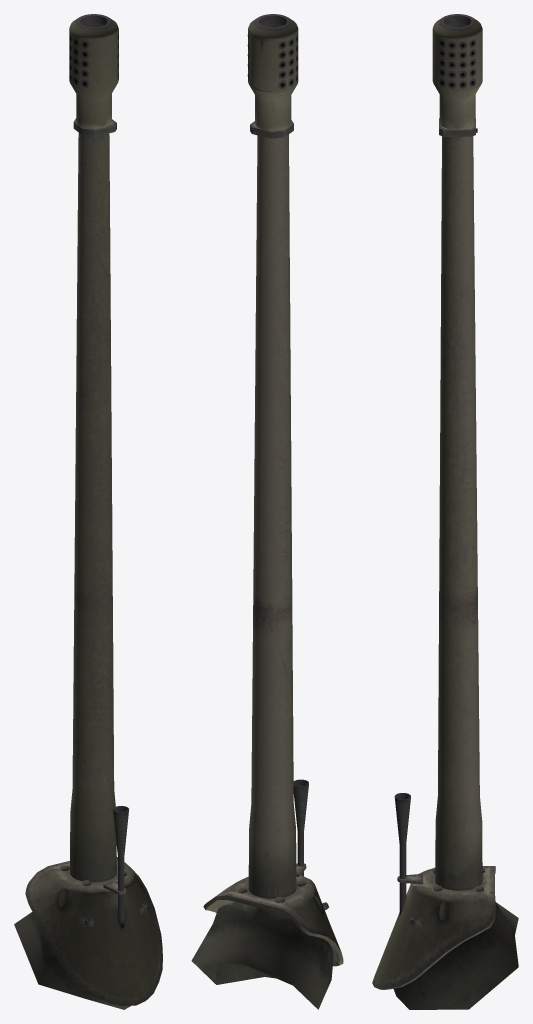
Rendered from Gun_01.glb.
The picture shows the model from 3 angles, left to right: view 1: azimuth 30°, elevation 25°; view 2: azimuth 150°, elevation 25°; view 3: azimuth 270°, elevation 25°; orthographic projection.
Parts seen in each view (by area): view 1: set_0_group_0; view 2: set_0_group_0; view 3: set_0_group_0.
Part boxes in pixels (bbox=[...]): set_0_group_0: bbox=[14, 14, 162, 1009]; set_0_group_0: bbox=[191, 14, 343, 1009]; set_0_group_0: bbox=[372, 14, 518, 1009].
Size of the model in its own units: 0.7342 by 6.05 by 0.8256.
1 material, 1 textured.
